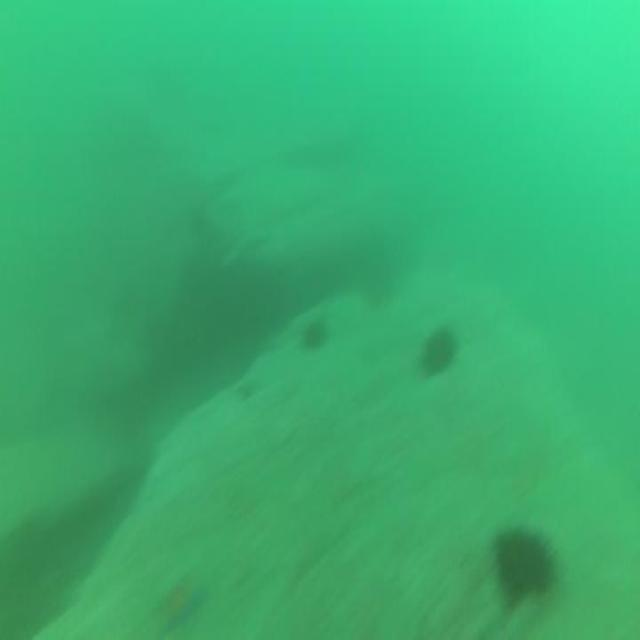echinus: (488, 518, 558, 613), (419, 319, 457, 381), (297, 313, 331, 357)
starfish: (152, 566, 209, 637)
